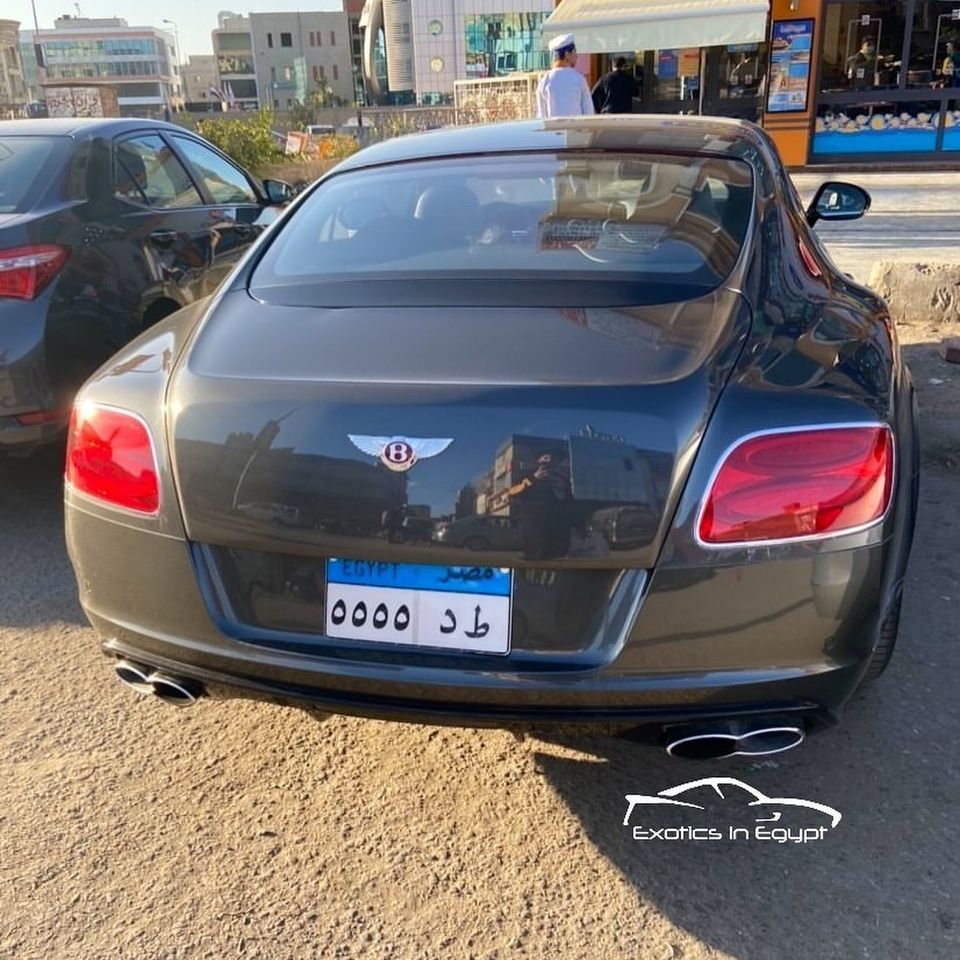carpl: (315, 577, 514, 649)
